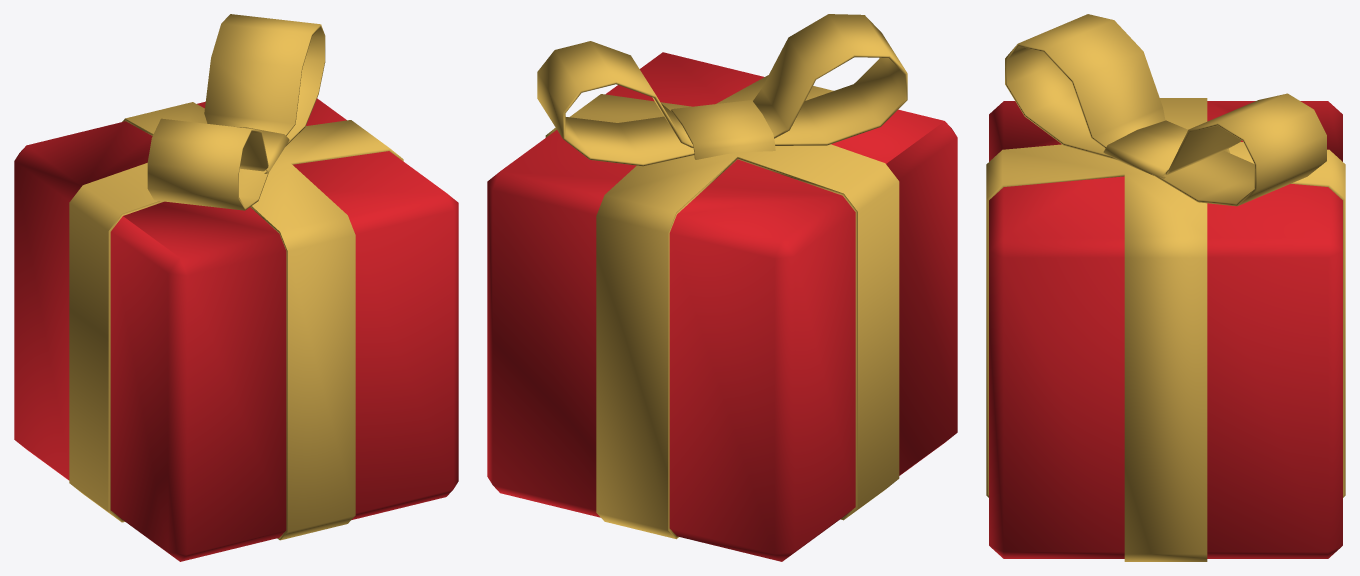
File: Present x2.fbx
The picture shows the model from 3 angles, left to right: view 1: azimuth 30°, elevation 25°; view 2: azimuth 150°, elevation 25°; view 3: azimuth 270°, elevation 25°; orthographic projection. The views are drawn at different scales.
Parts seen in each view (by area): view 1: Present x2; view 2: Present x2; view 3: Present x2.
Boxes of the visible parts, bbox=[...] form: Present x2: bbox=[14, 14, 458, 561]; Present x2: bbox=[487, 14, 957, 561]; Present x2: bbox=[986, 14, 1345, 561].
Size of the model in its own units: 60.92 by 78.84 by 60.92.
